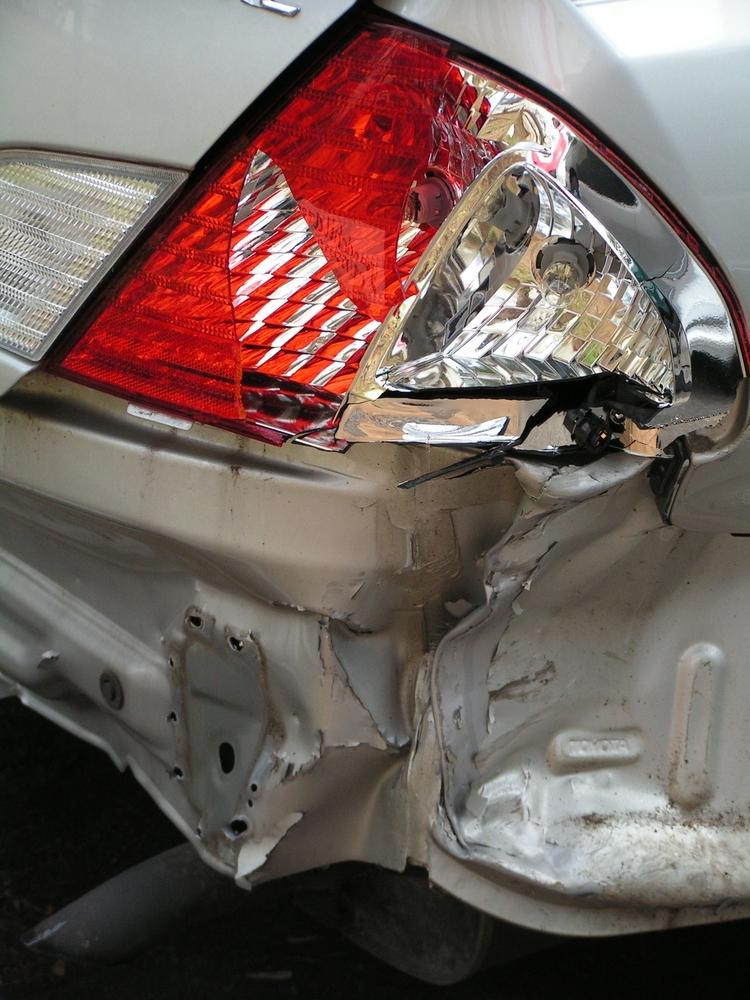dent: (437, 430, 750, 902)
lamp broken: (51, 21, 743, 450)
